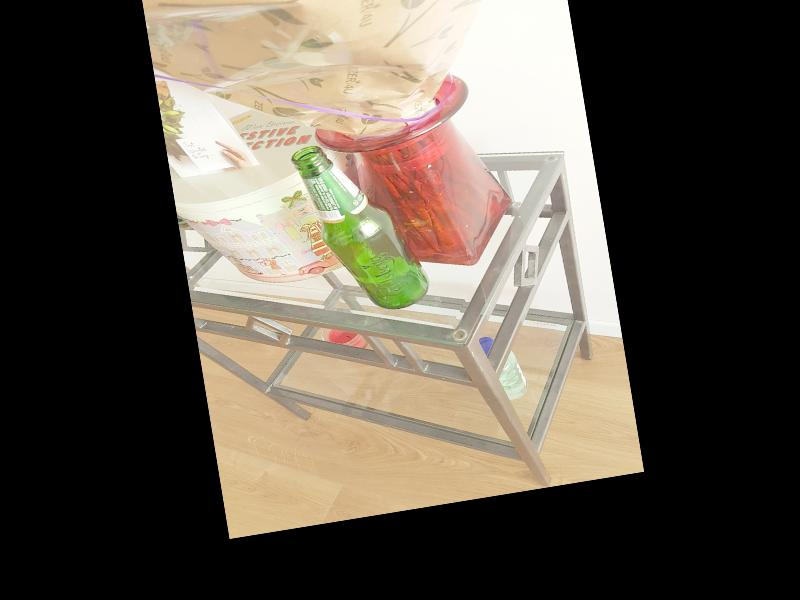Beer: (291, 131, 432, 321)
